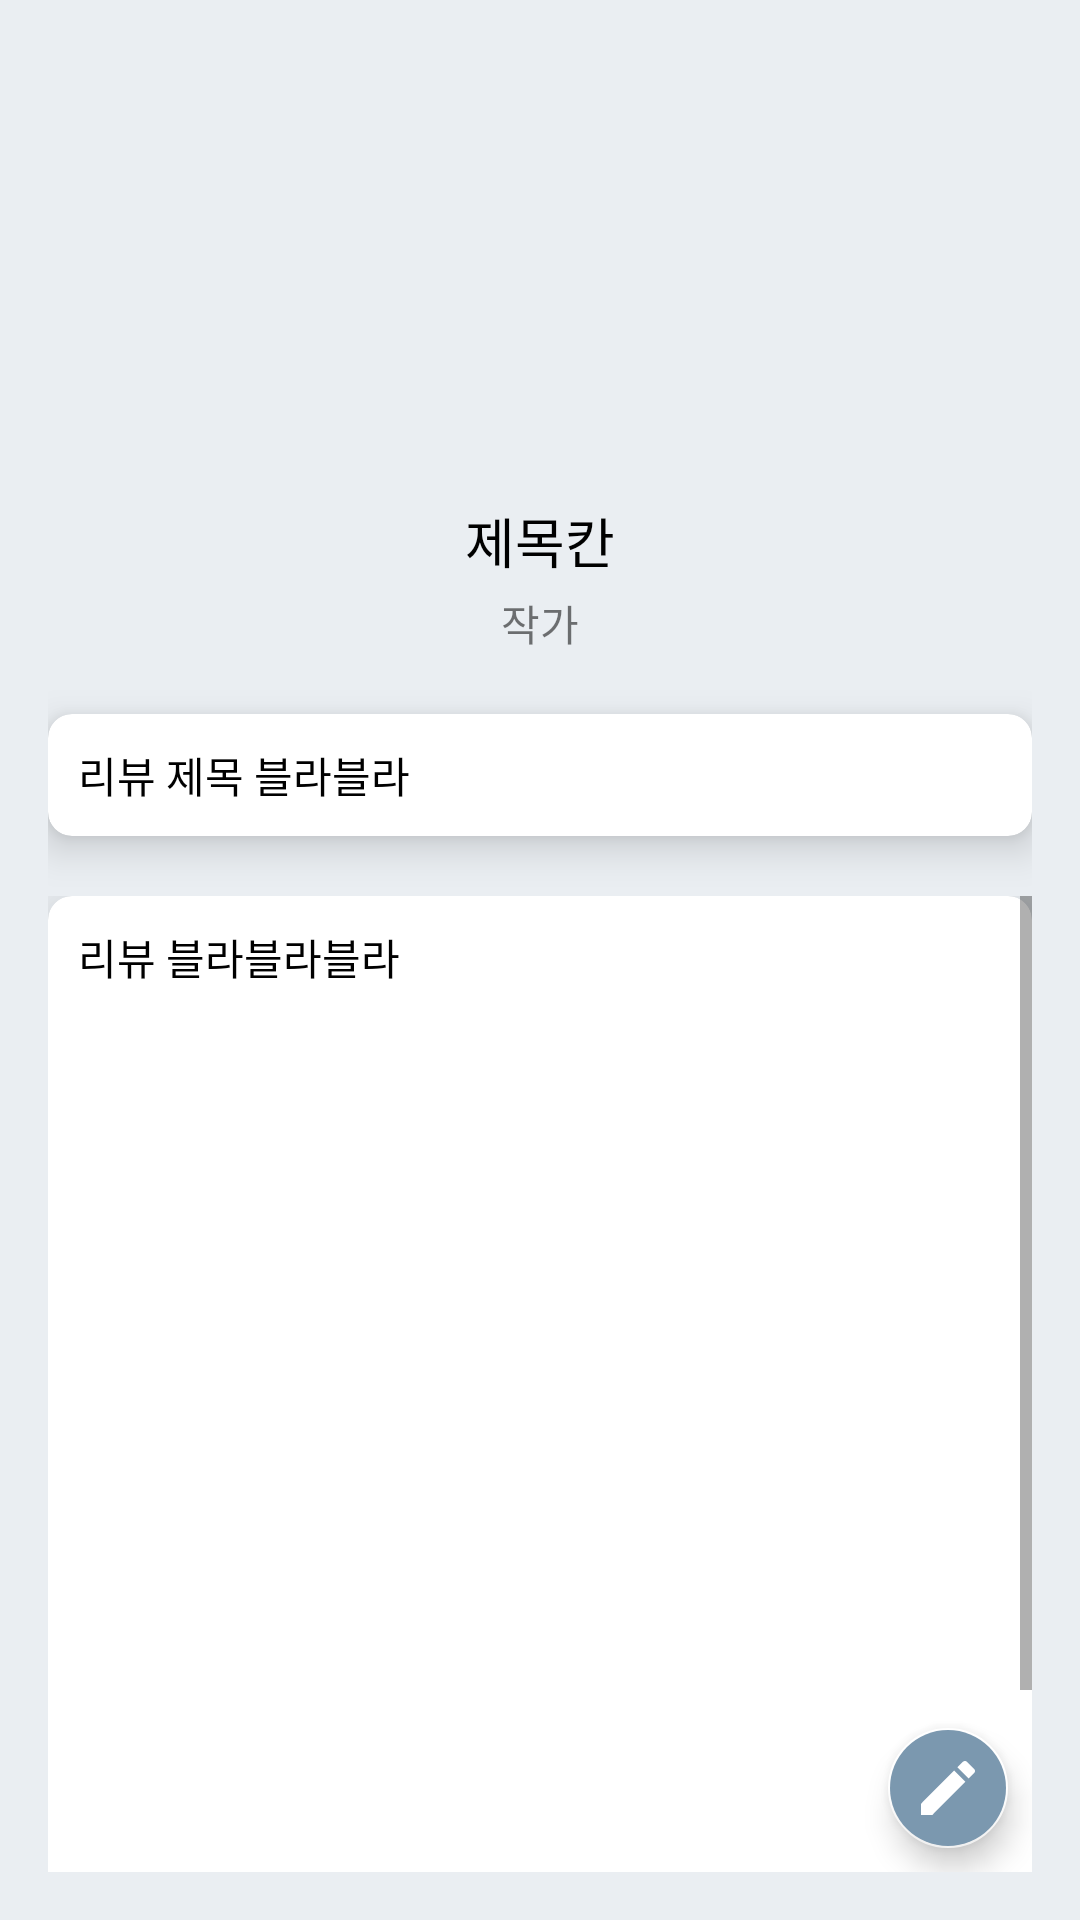

Where to tap for icons on this 1080×1920 app screen, as (x,y):
edit: (948,1788)
